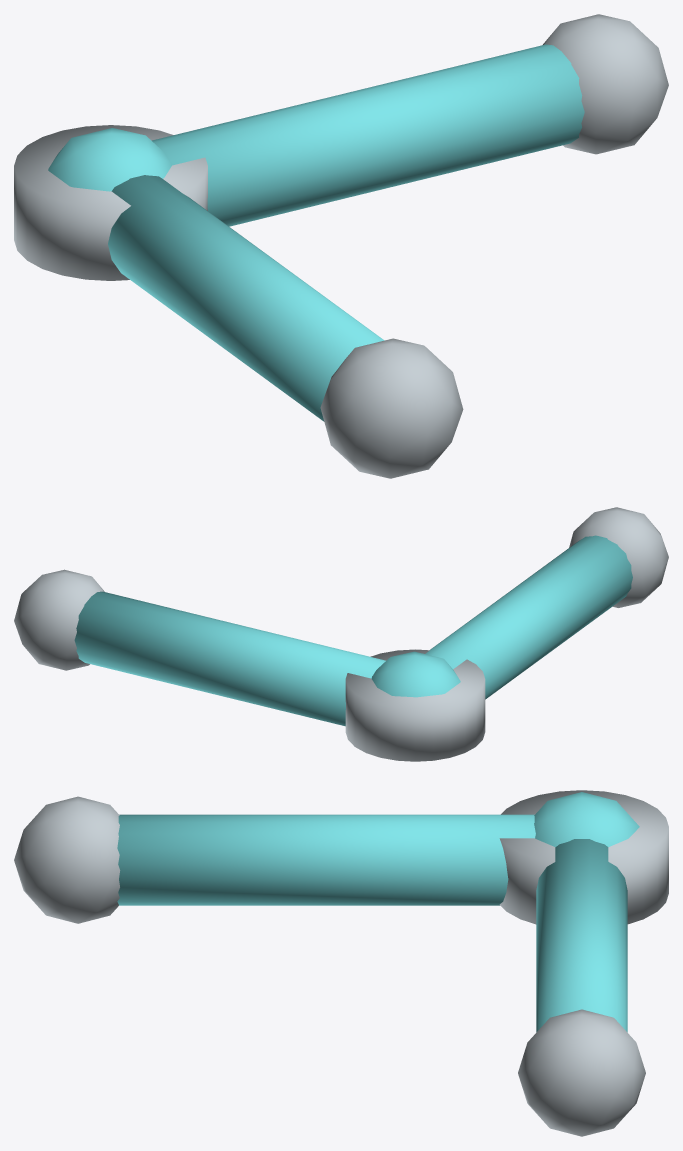
The model's file is conduit_elbow_enhanced.glb.
The picture shows the model from 3 angles, top to bottom: view 1: azimuth 30°, elevation 25°; view 2: azimuth 150°, elevation 25°; view 3: azimuth 270°, elevation 25°; orthographic projection. The views are drawn at different scales.
Visible parts, largest first — view 1: Conduit_cyan, Coupler_steel, JunctionCap_steel, Junction_cyan; view 2: Conduit_cyan, JunctionCap_steel, Coupler_steel, Junction_cyan; view 3: Conduit_cyan, Coupler_steel, JunctionCap_steel, Junction_cyan.
Part boxes in pixels (x1,y1,x2,y2): Conduit_cyan: (108, 44, 584, 421); Coupler_steel: (320, 14, 668, 478); JunctionCap_steel: (14, 125, 207, 280); Junction_cyan: (48, 128, 171, 191); Conduit_cyan: (74, 535, 632, 726); JunctionCap_steel: (345, 649, 485, 761); Coupler_steel: (14, 507, 668, 670); Junction_cyan: (371, 651, 460, 697); Conduit_cyan: (117, 814, 627, 1032); Coupler_steel: (14, 796, 645, 1136); JunctionCap_steel: (499, 790, 668, 924); Junction_cyan: (534, 792, 639, 846).
Bounding box in the file's own units: 1.43 × 0.3 × 1.43.
